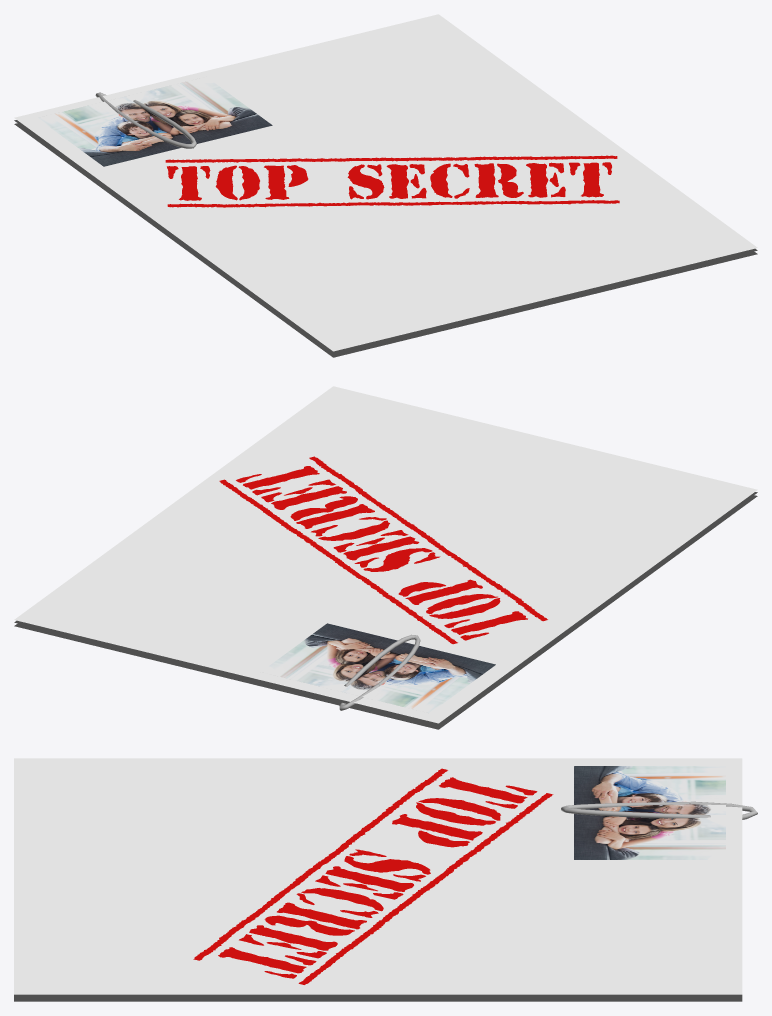
The picture shows the model from 3 angles, top to bottom: view 1: azimuth 30°, elevation 25°; view 2: azimuth 150°, elevation 25°; view 3: azimuth 270°, elevation 25°; orthographic projection. The views are drawn at different scales.
Visible parts, largest first — view 1: Plane, Text, Plane.001, Plane.003, Plane.002, BézierCurve.001; view 2: Plane, Text, Plane.001, Plane.003, Plane.002, BézierCurve.001; view 3: Plane, Text, Plane.001, Plane.003, Plane.002, BézierCurve.001.
Part boxes in pixels (x1,y1,x2,y2): Plane: [14, 14, 757, 351]; Text: [165, 155, 619, 207]; Plane.001: [37, 77, 272, 166]; Plane.003: [14, 123, 757, 357]; Plane.002: [14, 120, 757, 353]; BézierCurve.001: [95, 92, 196, 148]; Plane: [14, 386, 757, 723]; Text: [219, 456, 547, 644]; Plane.001: [261, 623, 495, 713]; Plane.003: [14, 495, 757, 729]; Plane.002: [14, 492, 757, 725]; BézierCurve.001: [339, 634, 420, 710]; Plane: [14, 758, 742, 994]; Text: [193, 768, 553, 984]; Plane.001: [574, 766, 725, 859]; Plane.003: [14, 997, 742, 1001]; Plane.002: [14, 994, 742, 997]; BézierCurve.001: [561, 801, 757, 819].
Bounding box in the file's own units: 43 × 1.77 × 57.21.
5 materials, 1 textured.
